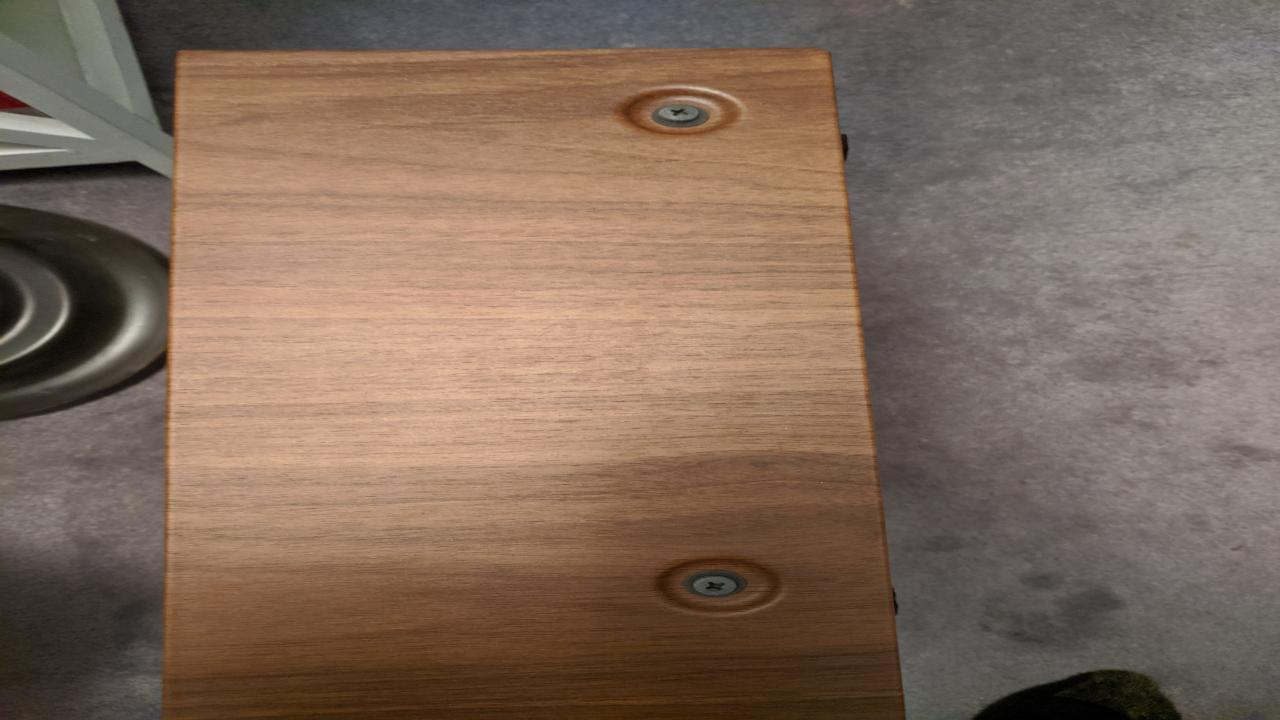CRS: (648, 101, 713, 129), (684, 574, 746, 598)
